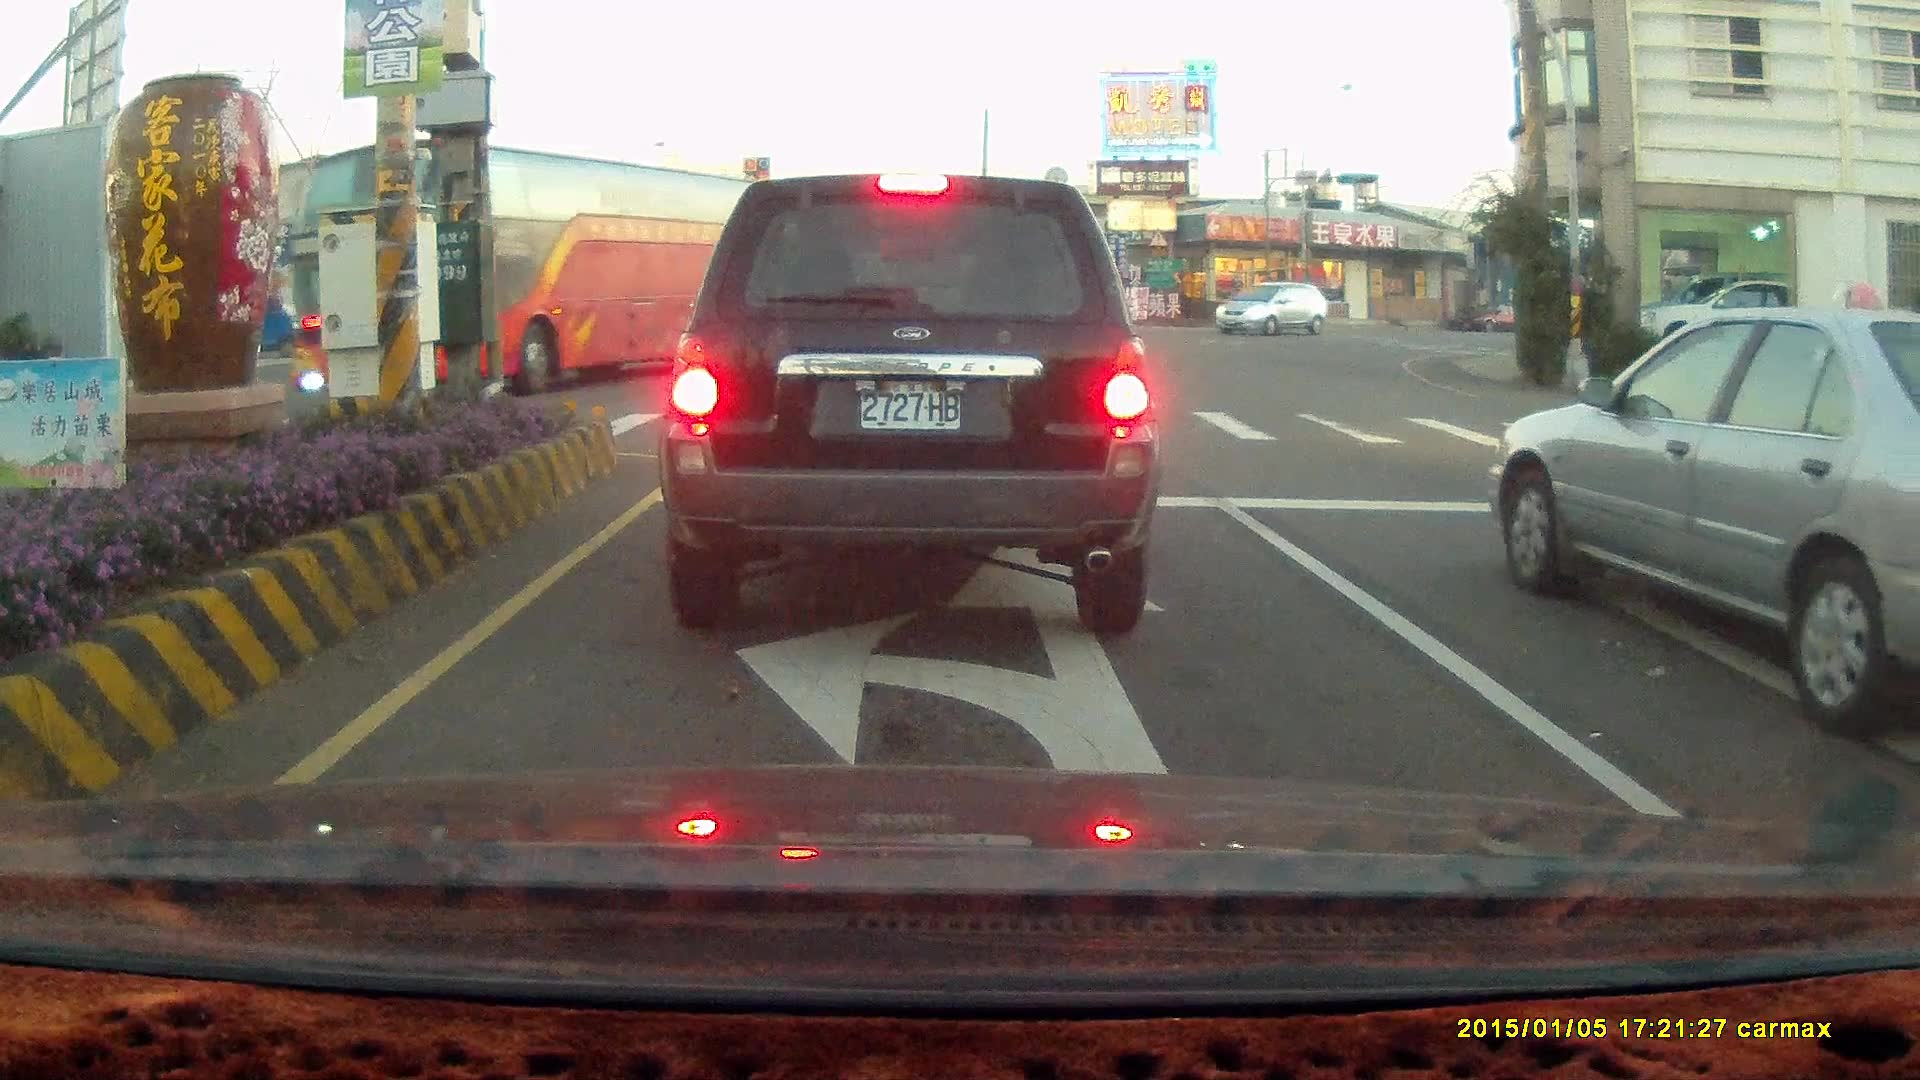vehicle: (653, 171, 1160, 637), (1482, 302, 1920, 740), (1487, 305, 1920, 702), (280, 136, 783, 422), (541, 255, 756, 345), (1633, 276, 1836, 363), (1642, 276, 1784, 356), (1896, 493, 1920, 836), (1217, 281, 1331, 340)
